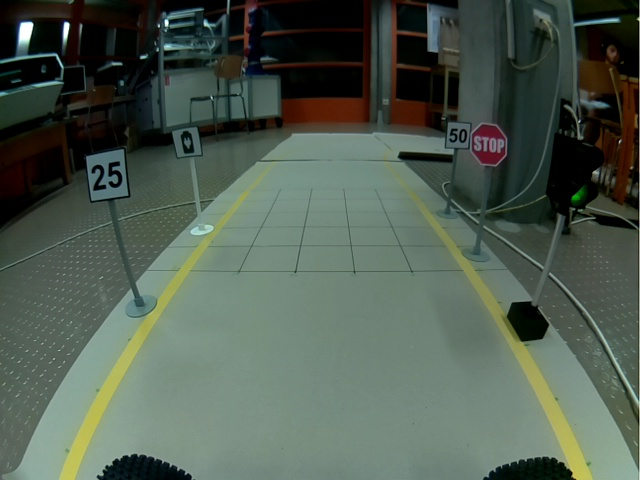battery: (171, 126, 203, 159)
speed25: (84, 146, 131, 203)
speed50: (445, 121, 472, 149)
stop: (470, 122, 508, 167)
trafficLightGreen: (545, 133, 605, 210)
